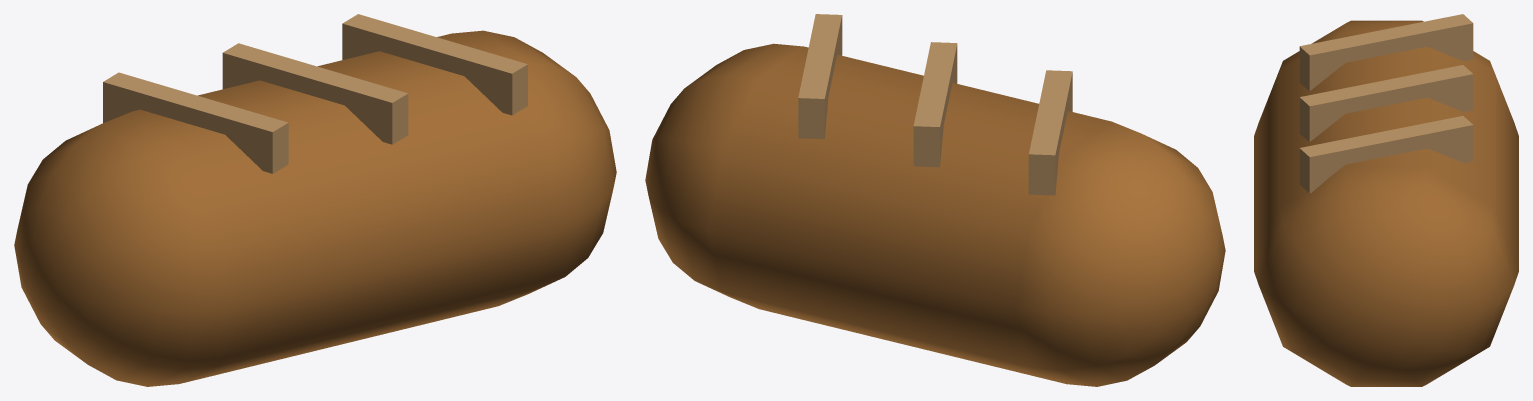
The model's file is bread.glb.
3 renders of one model, left to right at view 1: azimuth 30°, elevation 25°; view 2: azimuth 150°, elevation 25°; view 3: azimuth 270°, elevation 25°, orthographic. The views are drawn at different scales.
Visible parts, largest first — view 1: bread; view 2: bread; view 3: bread.
Boxes of the visible parts, <box> form: bread: <box>14,14,616,386</box>; bread: <box>645,14,1225,386</box>; bread: <box>1254,14,1518,386</box>.
Size of the model in its own units: 0.28 by 0.1221 by 0.132.
